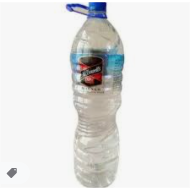Bottle: (66, 2, 124, 189)
